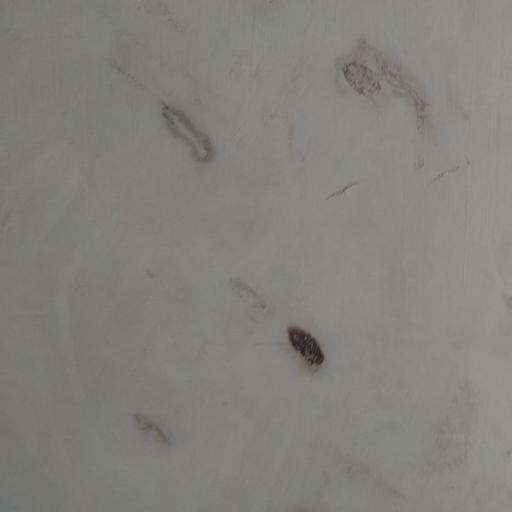stain: (288, 11, 483, 205), (96, 36, 241, 193), (399, 362, 498, 492), (272, 304, 349, 396), (330, 447, 422, 512), (132, 396, 185, 461), (227, 273, 284, 323)
